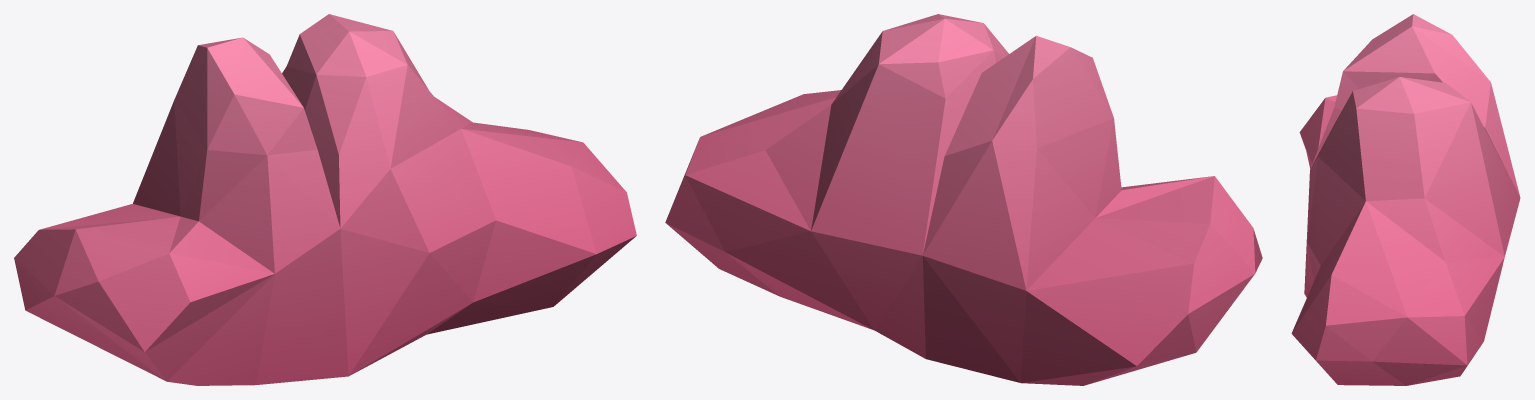
The model's file is bush_split_pink.fbx.
The picture shows the model from 3 angles, left to right: view 1: azimuth 30°, elevation 25°; view 2: azimuth 150°, elevation 25°; view 3: azimuth 270°, elevation 25°; orthographic projection. The views are drawn at different scales.
Parts seen in each view (by area): view 1: bush_split_pink; view 2: bush_split_pink; view 3: bush_split_pink.
Boxes of the visible parts, x1=… form: bush_split_pink: x1=14, y1=14, x2=636, y2=385; bush_split_pink: x1=665, y1=14, x2=1262, y2=385; bush_split_pink: x1=1291, y1=14, x2=1520, y2=385.
Bounding box in the file's own units: 2.75 × 1.45 × 1.2.
Materials: 1 (1 with a texture image).
